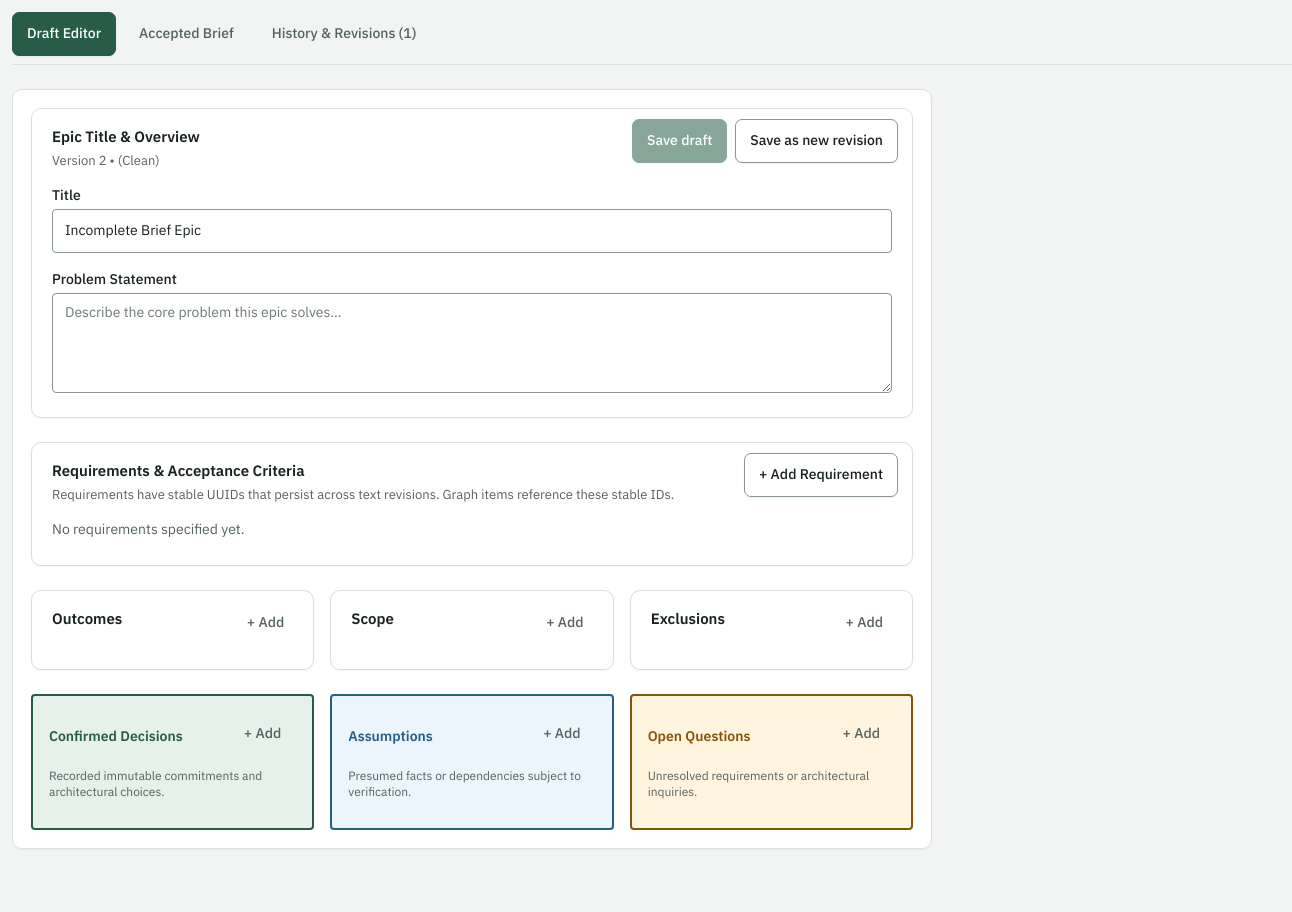
it: Epic Readability & Density Improvements › incomplete brief adoption gives actionable missing-content explanation
# Go to history tab
Click the button "History & Revisions (1)".
click(344, 34)  # box x1=257 y1=12 x2=432 y2=56
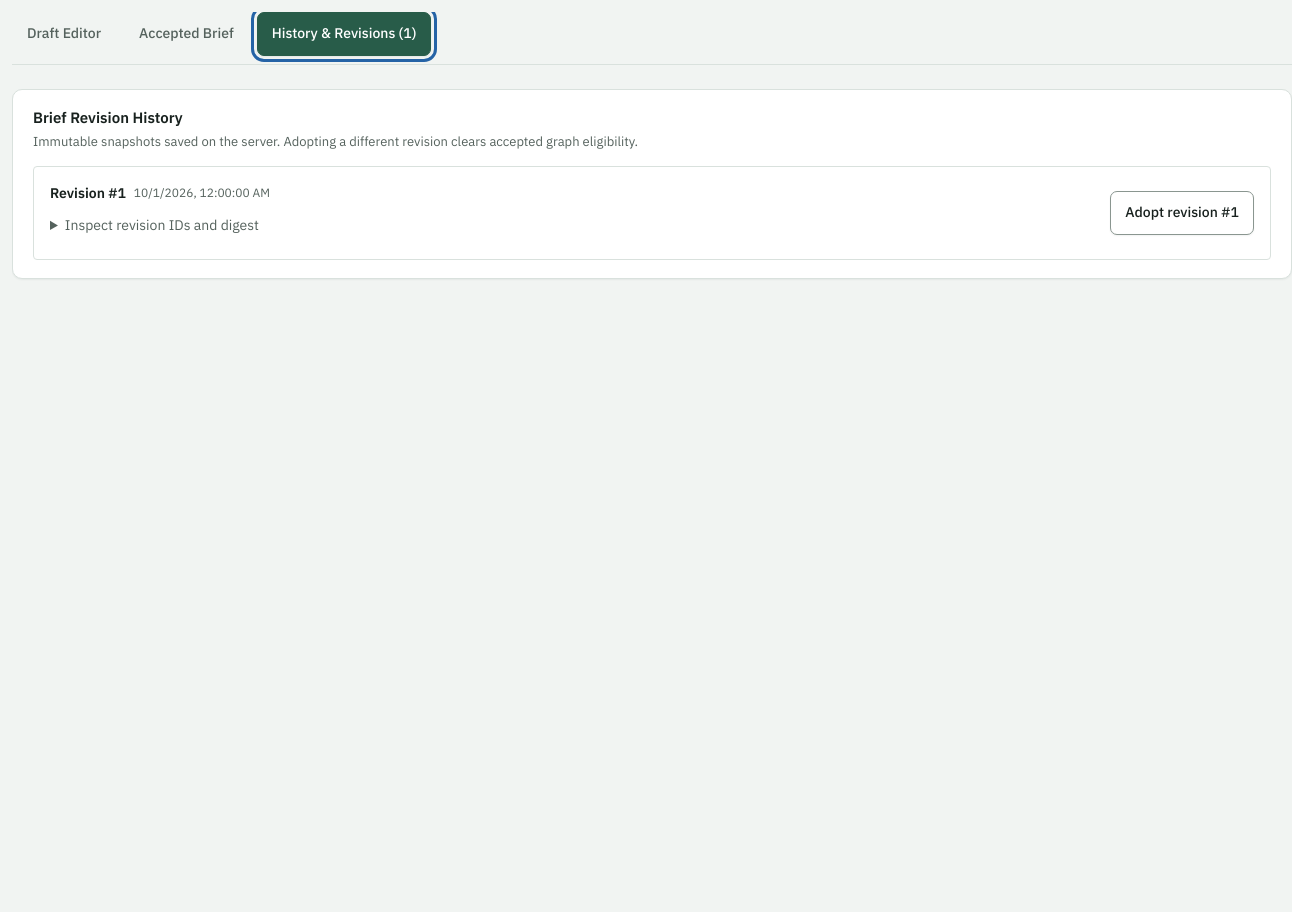
Click the button "Adopt revision #1".
click(1182, 213)  # box x1=1110 y1=191 x2=1254 y2=235
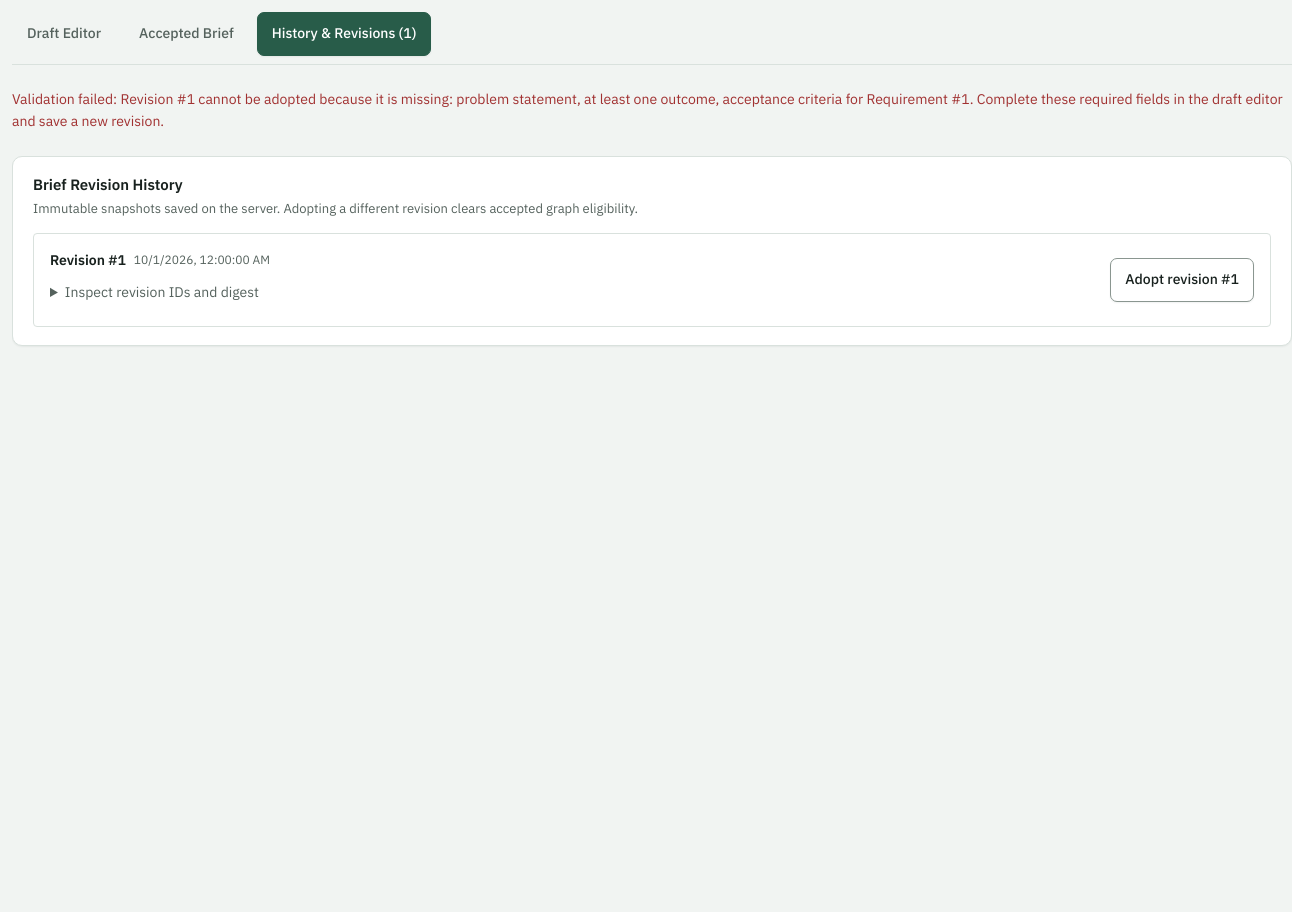
Expected: the message shows "problem statement", x1=456 y1=90 x2=970 y2=108
Expected: the message shows "at least one outcome", x1=456 y1=90 x2=970 y2=108
Expected: the message shows "acceptance criteria for Requirement #1", x1=456 y1=90 x2=970 y2=108
